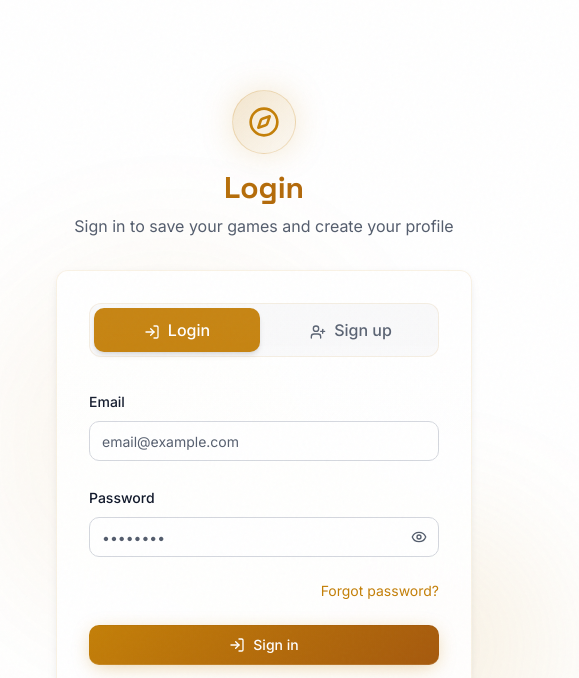
Test: Auth Page › Error Handling › displays error for already registered email
Click the button "Sign up".
click(351, 330)  # box [268,308,434,352]
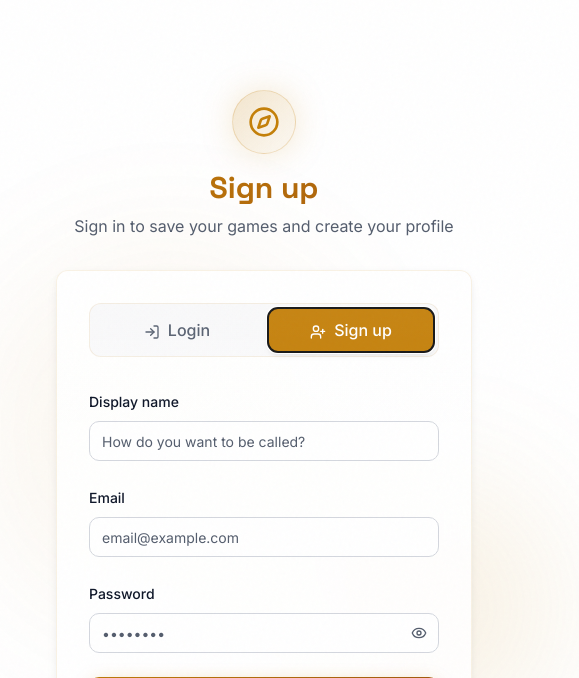
Type "Test User" into the field labelled "Display name".
click(264, 441); type("Test User")  # box [89,421,439,461]
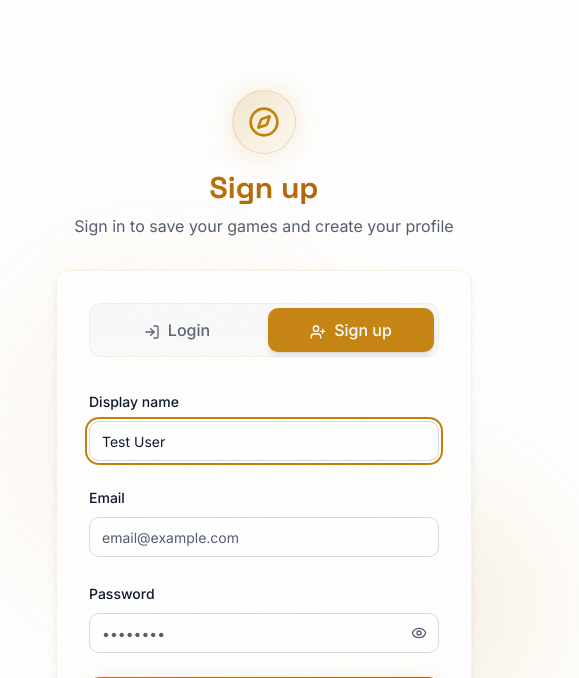
Type "existing@example.com" into the field labelled "Email".
click(264, 537); type("existing@example.com")  # box [89,517,439,557]
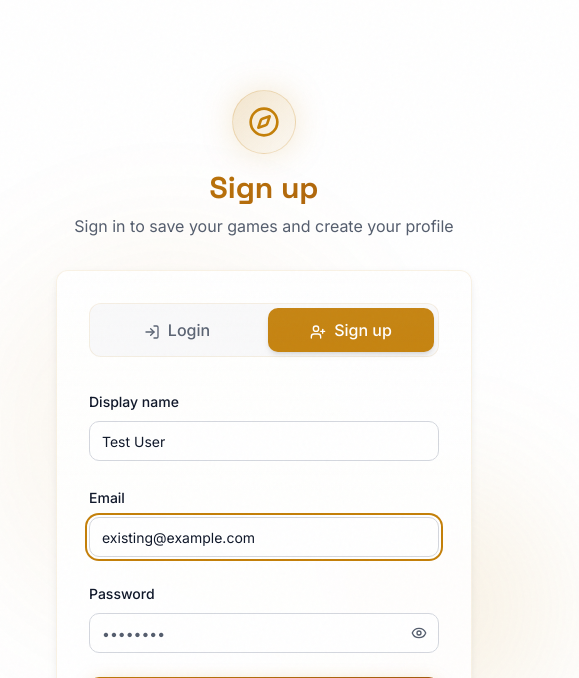
Type "ValidPass1" into the password field labelled "Password".
click(264, 633); type("ValidPass1")  # box [89,613,439,653]
(page scrolled)
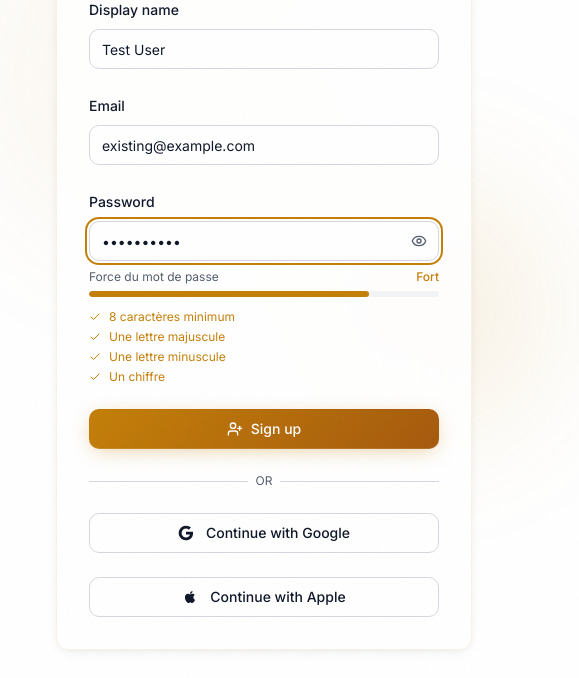
Click the button "Sign up".
click(264, 429)  # box [89,409,439,449]
(page scrolled)
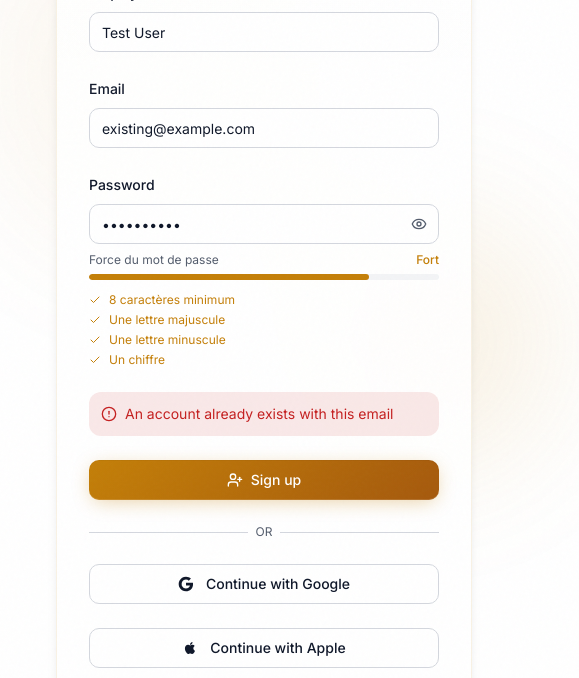
Now the text "An account already exists with this email" is shown, box [125,404,393,424]
